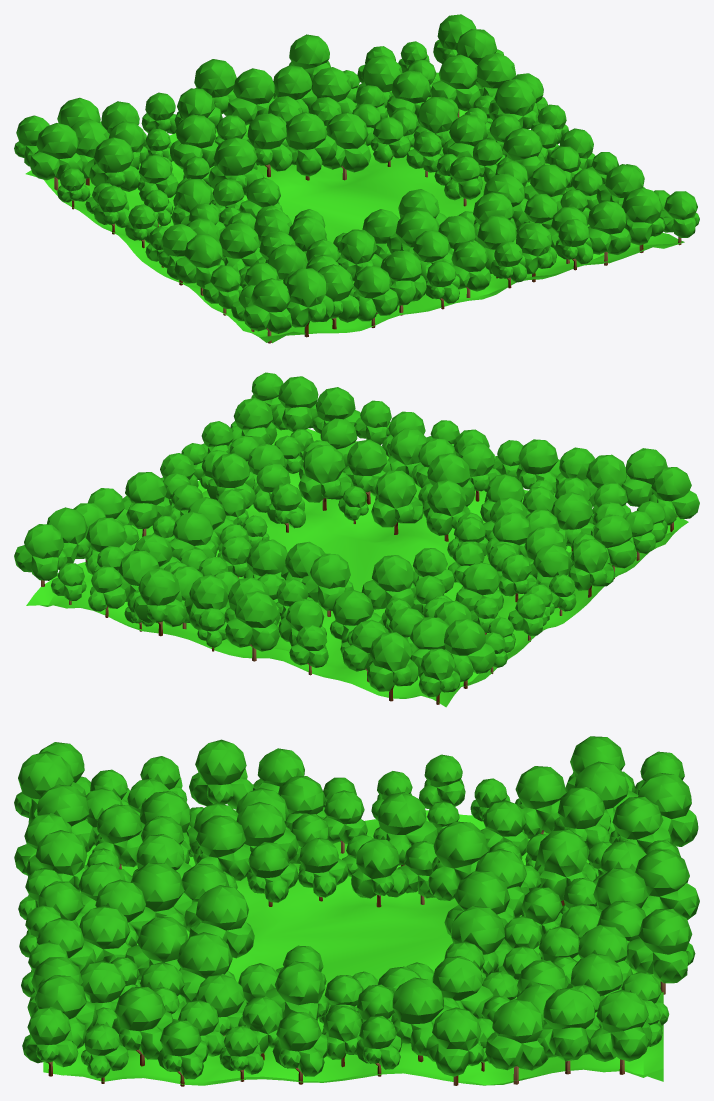
The model's file is Trees.glb.
3 renders of one model, top to bottom at view 1: azimuth 30°, elevation 25°; view 2: azimuth 150°, elevation 25°; view 3: azimuth 270°, elevation 25°, orthographic. The views are drawn at different scales.
Visible parts, largest first — view 1: Ground.002; view 2: Ground.002; view 3: Ground.002.
Boxes of the visible parts, box(x1,y1,x2,y2) form: Ground.002: box(14, 14, 699, 343); Ground.002: box(14, 372, 699, 707); Ground.002: box(14, 736, 699, 1086).
Bounding box in the file's own units: 99.38 × 17.74 × 99.56.
Materials: 3 (1 with a texture image).
